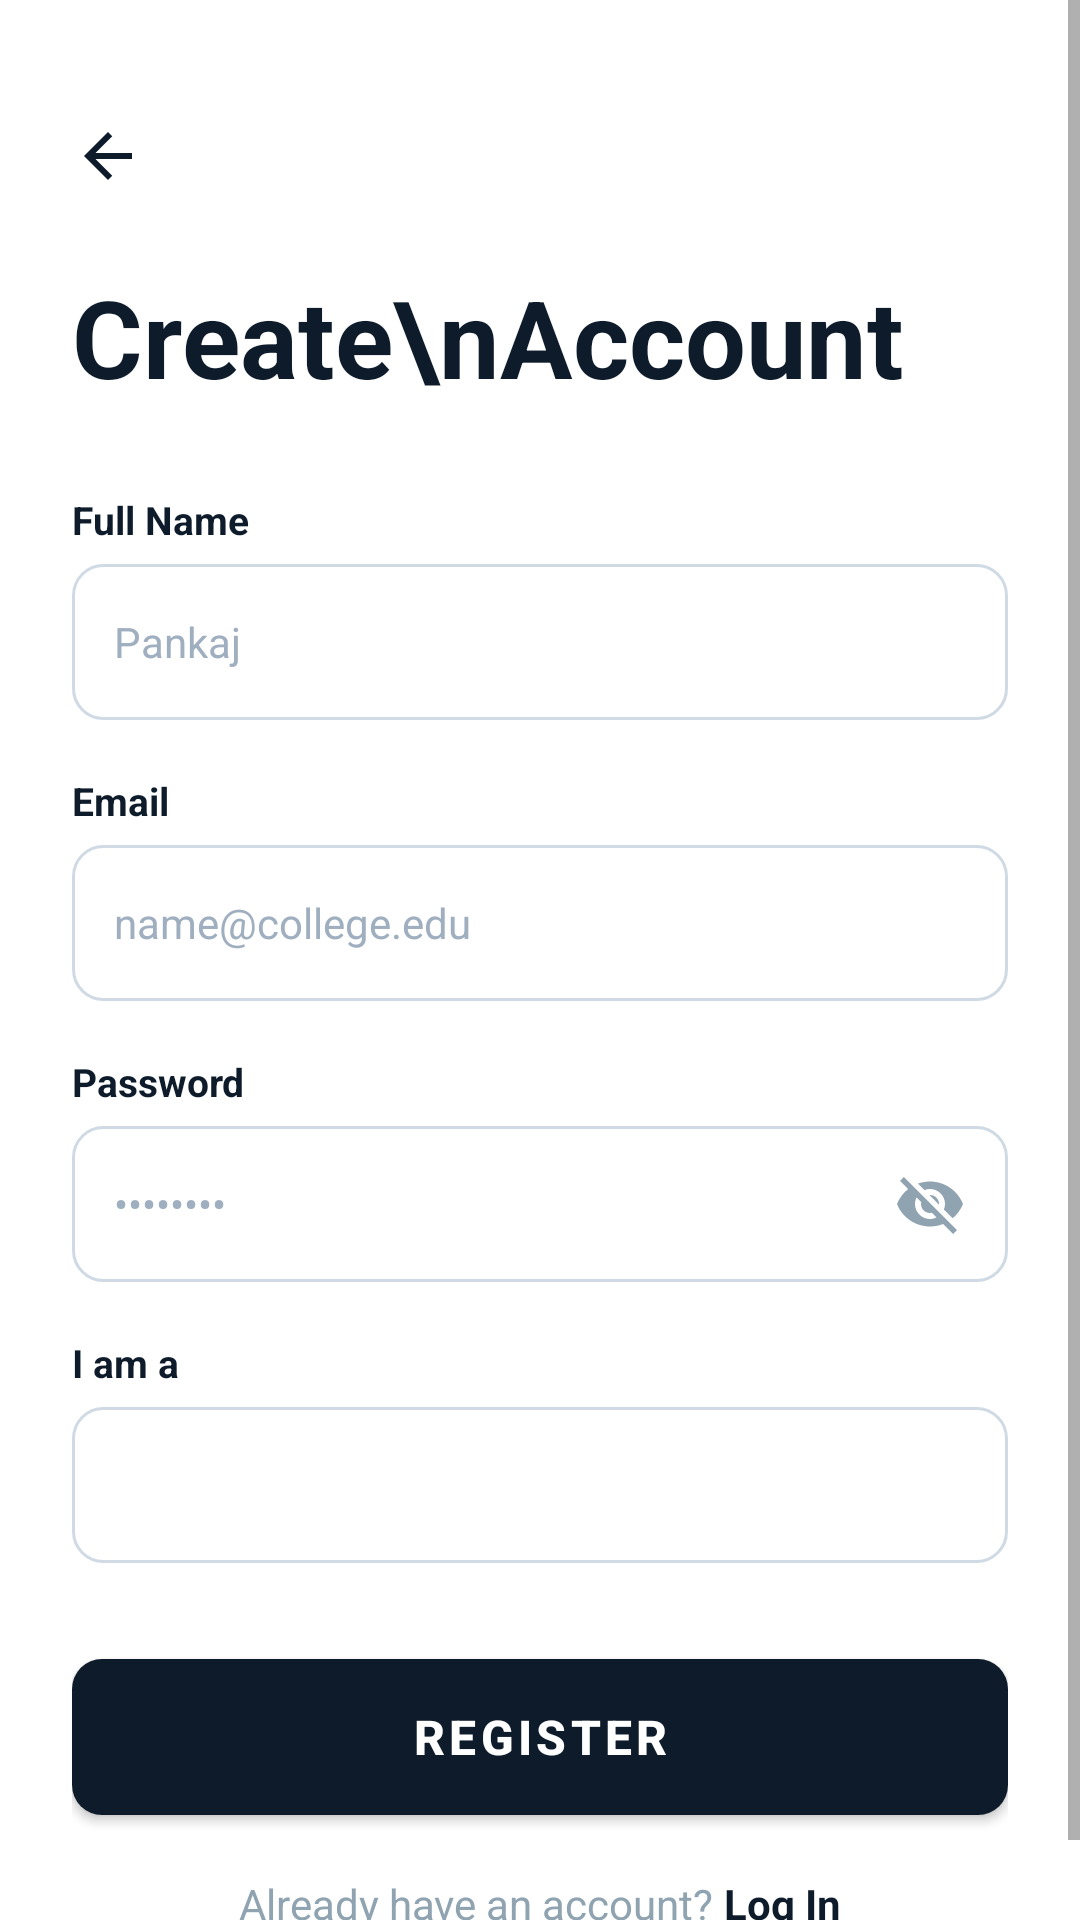

Icons on this 1080 x 1920 Android screen, each with its box as rect(x1, y1, x2, y2):
arrow back: rect(84, 132, 132, 180)
eye off: rect(897, 1177, 963, 1234)
